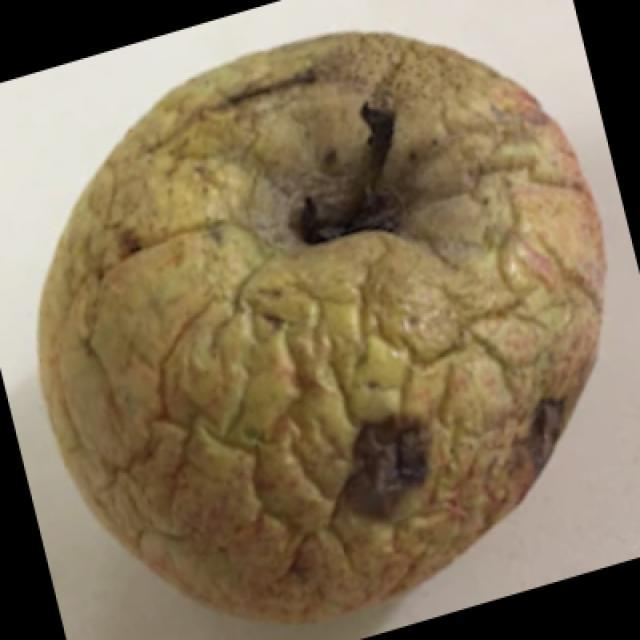Rotten: (68, 30, 600, 623)
